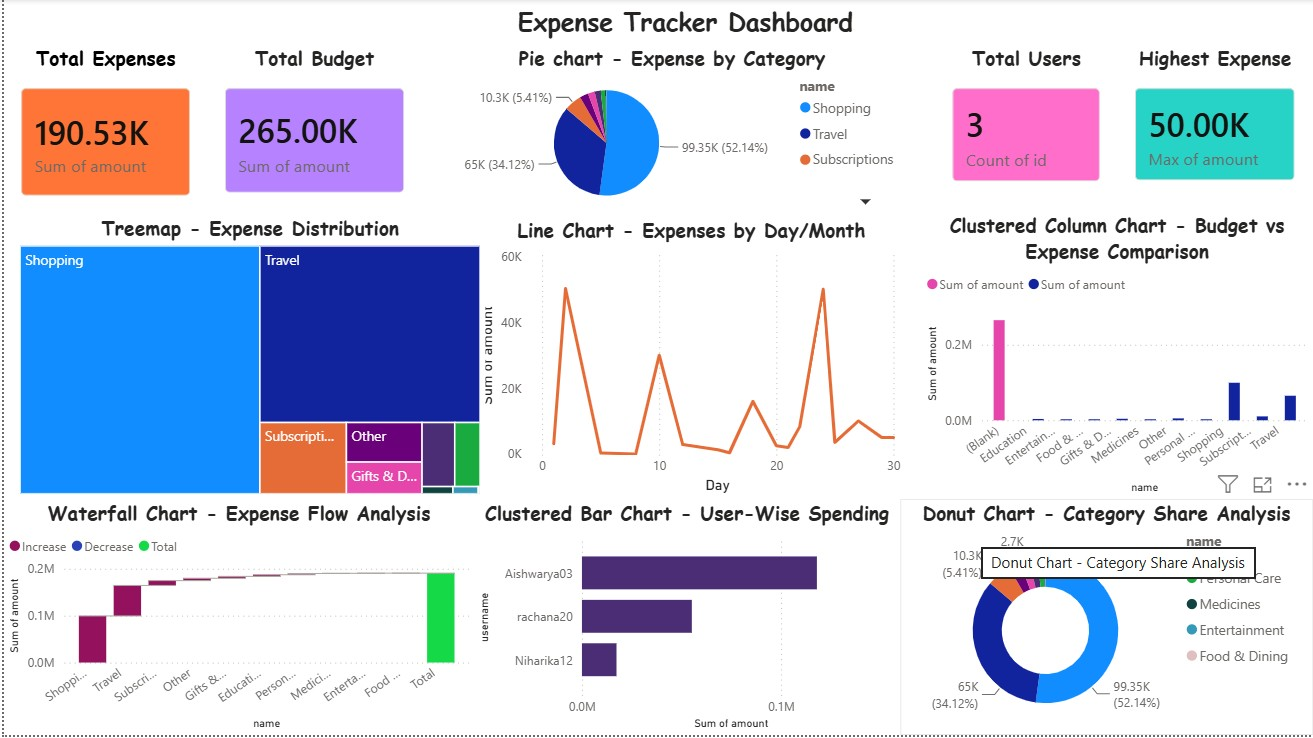

This screenshot's page, from the dashboard's own definition file:
{"tool":"powerbi","page":{"name":"Expense Tracker Dashboard","canvas":[1280,720],"ordinal":0},"visuals":[{"type":"cardVisual","title":"Total Expenses","fields":{"Data":["Sum(expenses.amount)"]},"box":[0,44,199.3,166.3],"z":0},{"type":"cardVisual","title":"Total Budget","fields":{"Data":["Sum(budgets.amount)"]},"box":[199.3,44,209.1,162.6],"z":1000},{"type":"pieChart","title":"Pie chart - Expense by Category","fields":{"Category":["categories.name"],"Y":["Sum(expenses.amount)"]},"box":[396.2,44,514.8,167.5],"z":2000},{"type":"lineChart","title":"Line Chart - Expenses by Day/Month","fields":{"Category":["expenses.expense_date.Variation.Date Hierarchy.Year","expenses.expense_date.Variation.Date Hierarchy.Quarter","expenses.expense_date.Variation.Date Hierarchy.Month","expenses.expense_date.Variation.Date Hierarchy.Day"],"Y":["Sum(expenses.amount)"]},"box":[459.8,211.6,425.5,277.6],"z":3000},{"type":"clusteredBarChart","title":"Clustered Bar Chart - User-Wise Spending","fields":{"Category":["users.username"],"Y":["Sum(expenses.amount)"]},"box":[459.8,489.1,417,231.1],"z":4000},{"type":"clusteredColumnChart","title":"Clustered Column Chart - Budget vs Expense Comparison","fields":{"Category":["categories.name"],"Y":["Sum(budgets.amount)","Sum(expenses.amount)"]},"box":[897.6,206.7,382.7,282.5],"z":5000},{"type":"donutChart","title":"Donut Chart - Category Share Analysis","fields":{"Category":["categories.name"],"Y":["Sum(expenses.amount)"]},"box":[876.8,489.1,403.5,231.1],"z":6000},{"type":"cardVisual","title":"Total Users","fields":{"Data":["CountNonNull(users.id)"]},"box":[911,44,178.5,151.6],"z":7000},{"type":"cardVisual","title":"Highest Expense","fields":{"Data":["Max(expenses.amount)"]},"box":[1089.5,44,190.8,150.4],"z":8000},{"type":"waterfallChart","title":"Waterfall Chart - Expense Flow Analysis","fields":{"Y":["Sum(expenses.amount)"],"Category":["categories.name"]},"box":[0,489,460,231],"z":9000},{"type":"treemap","title":"Treemap - Expense Distribution","fields":{"Group":["categories.name"],"Values":["Sum(expenses.amount)"]},"box":[11,210.3,459.8,278.8],"z":10000},{"type":"textbox","box":[408.4,0,516,44],"z":10001}]}

Visuals, with their boxes in screenshot pixels (x1, y1, x2, y2), scaled from the page's 1280x720 canvas onto the 1313x738 screenshot:
"Total Expenses" cardVisual: <region>0, 45, 204, 216</region>
"Total Budget" cardVisual: <region>204, 45, 419, 212</region>
"Pie chart - Expense by Category" pieChart: <region>406, 45, 934, 217</region>
"Line Chart - Expenses by Day/Month" lineChart: <region>472, 217, 908, 501</region>
"Clustered Bar Chart - User-Wise Spending" clusteredBarChart: <region>472, 501, 899, 737</region>
"Clustered Column Chart - Budget vs Expense Comparison" clusteredColumnChart: <region>921, 212, 1312, 501</region>
"Donut Chart - Category Share Analysis" donutChart: <region>899, 501, 1312, 737</region>
"Total Users" cardVisual: <region>934, 45, 1118, 200</region>
"Highest Expense" cardVisual: <region>1118, 45, 1312, 199</region>
"Waterfall Chart - Expense Flow Analysis" waterfallChart: <region>0, 501, 472, 737</region>
"Treemap - Expense Distribution" treemap: <region>11, 216, 483, 501</region>
textbox: <region>419, 0, 948, 45</region>
